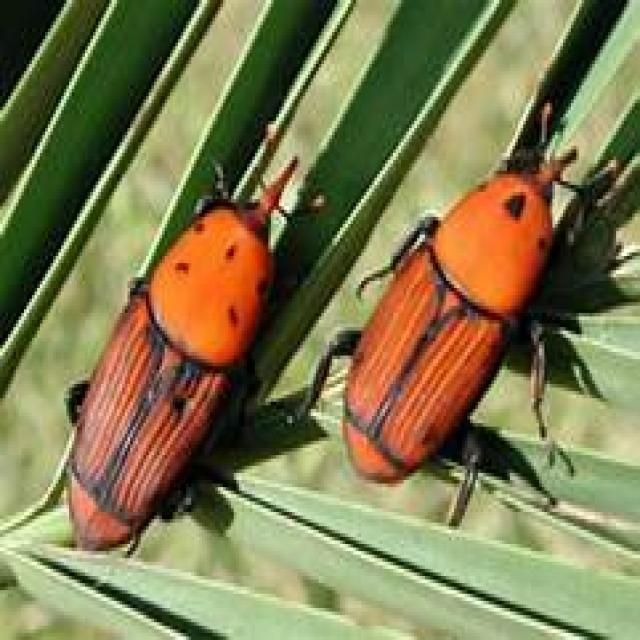Red-palm-weevil: (31, 157, 303, 571), (349, 146, 585, 528)
